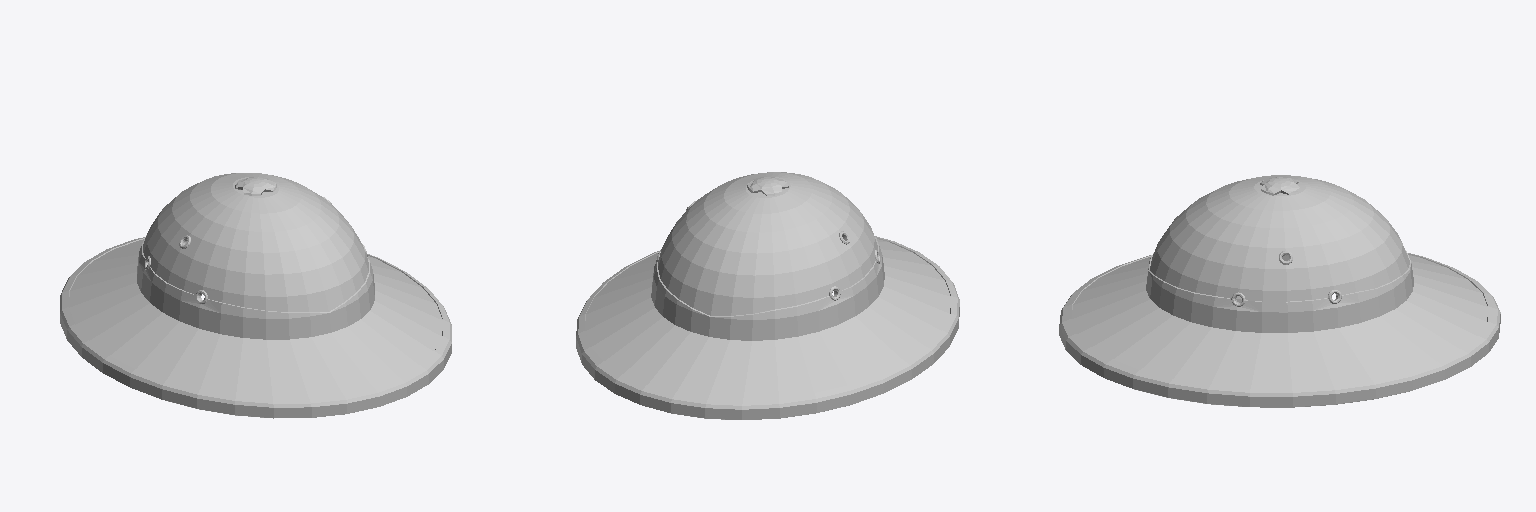
File: french helmet.obj
3 renders of one model, left to right at view 1: azimuth 30°, elevation 25°; view 2: azimuth 150°, elevation 25°; view 3: azimuth 270°, elevation 25°, orthographic.
Visible parts, largest first — view 1: French_Hat_FrProbkaShlem_Complete; view 2: French_Hat_FrProbkaShlem_Complete; view 3: French_Hat_FrProbkaShlem_Complete.
Boxes of the visible parts, <box> form: French_Hat_FrProbkaShlem_Complete: <box>60,173,451,418</box>; French_Hat_FrProbkaShlem_Complete: <box>576,172,959,419</box>; French_Hat_FrProbkaShlem_Complete: <box>1059,175,1500,407</box>.
Size of the model in its own units: 10.03 by 4.51 by 12.